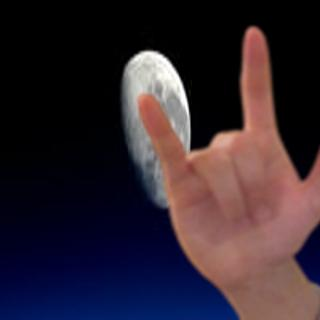ILY: (128, 21, 320, 291)
